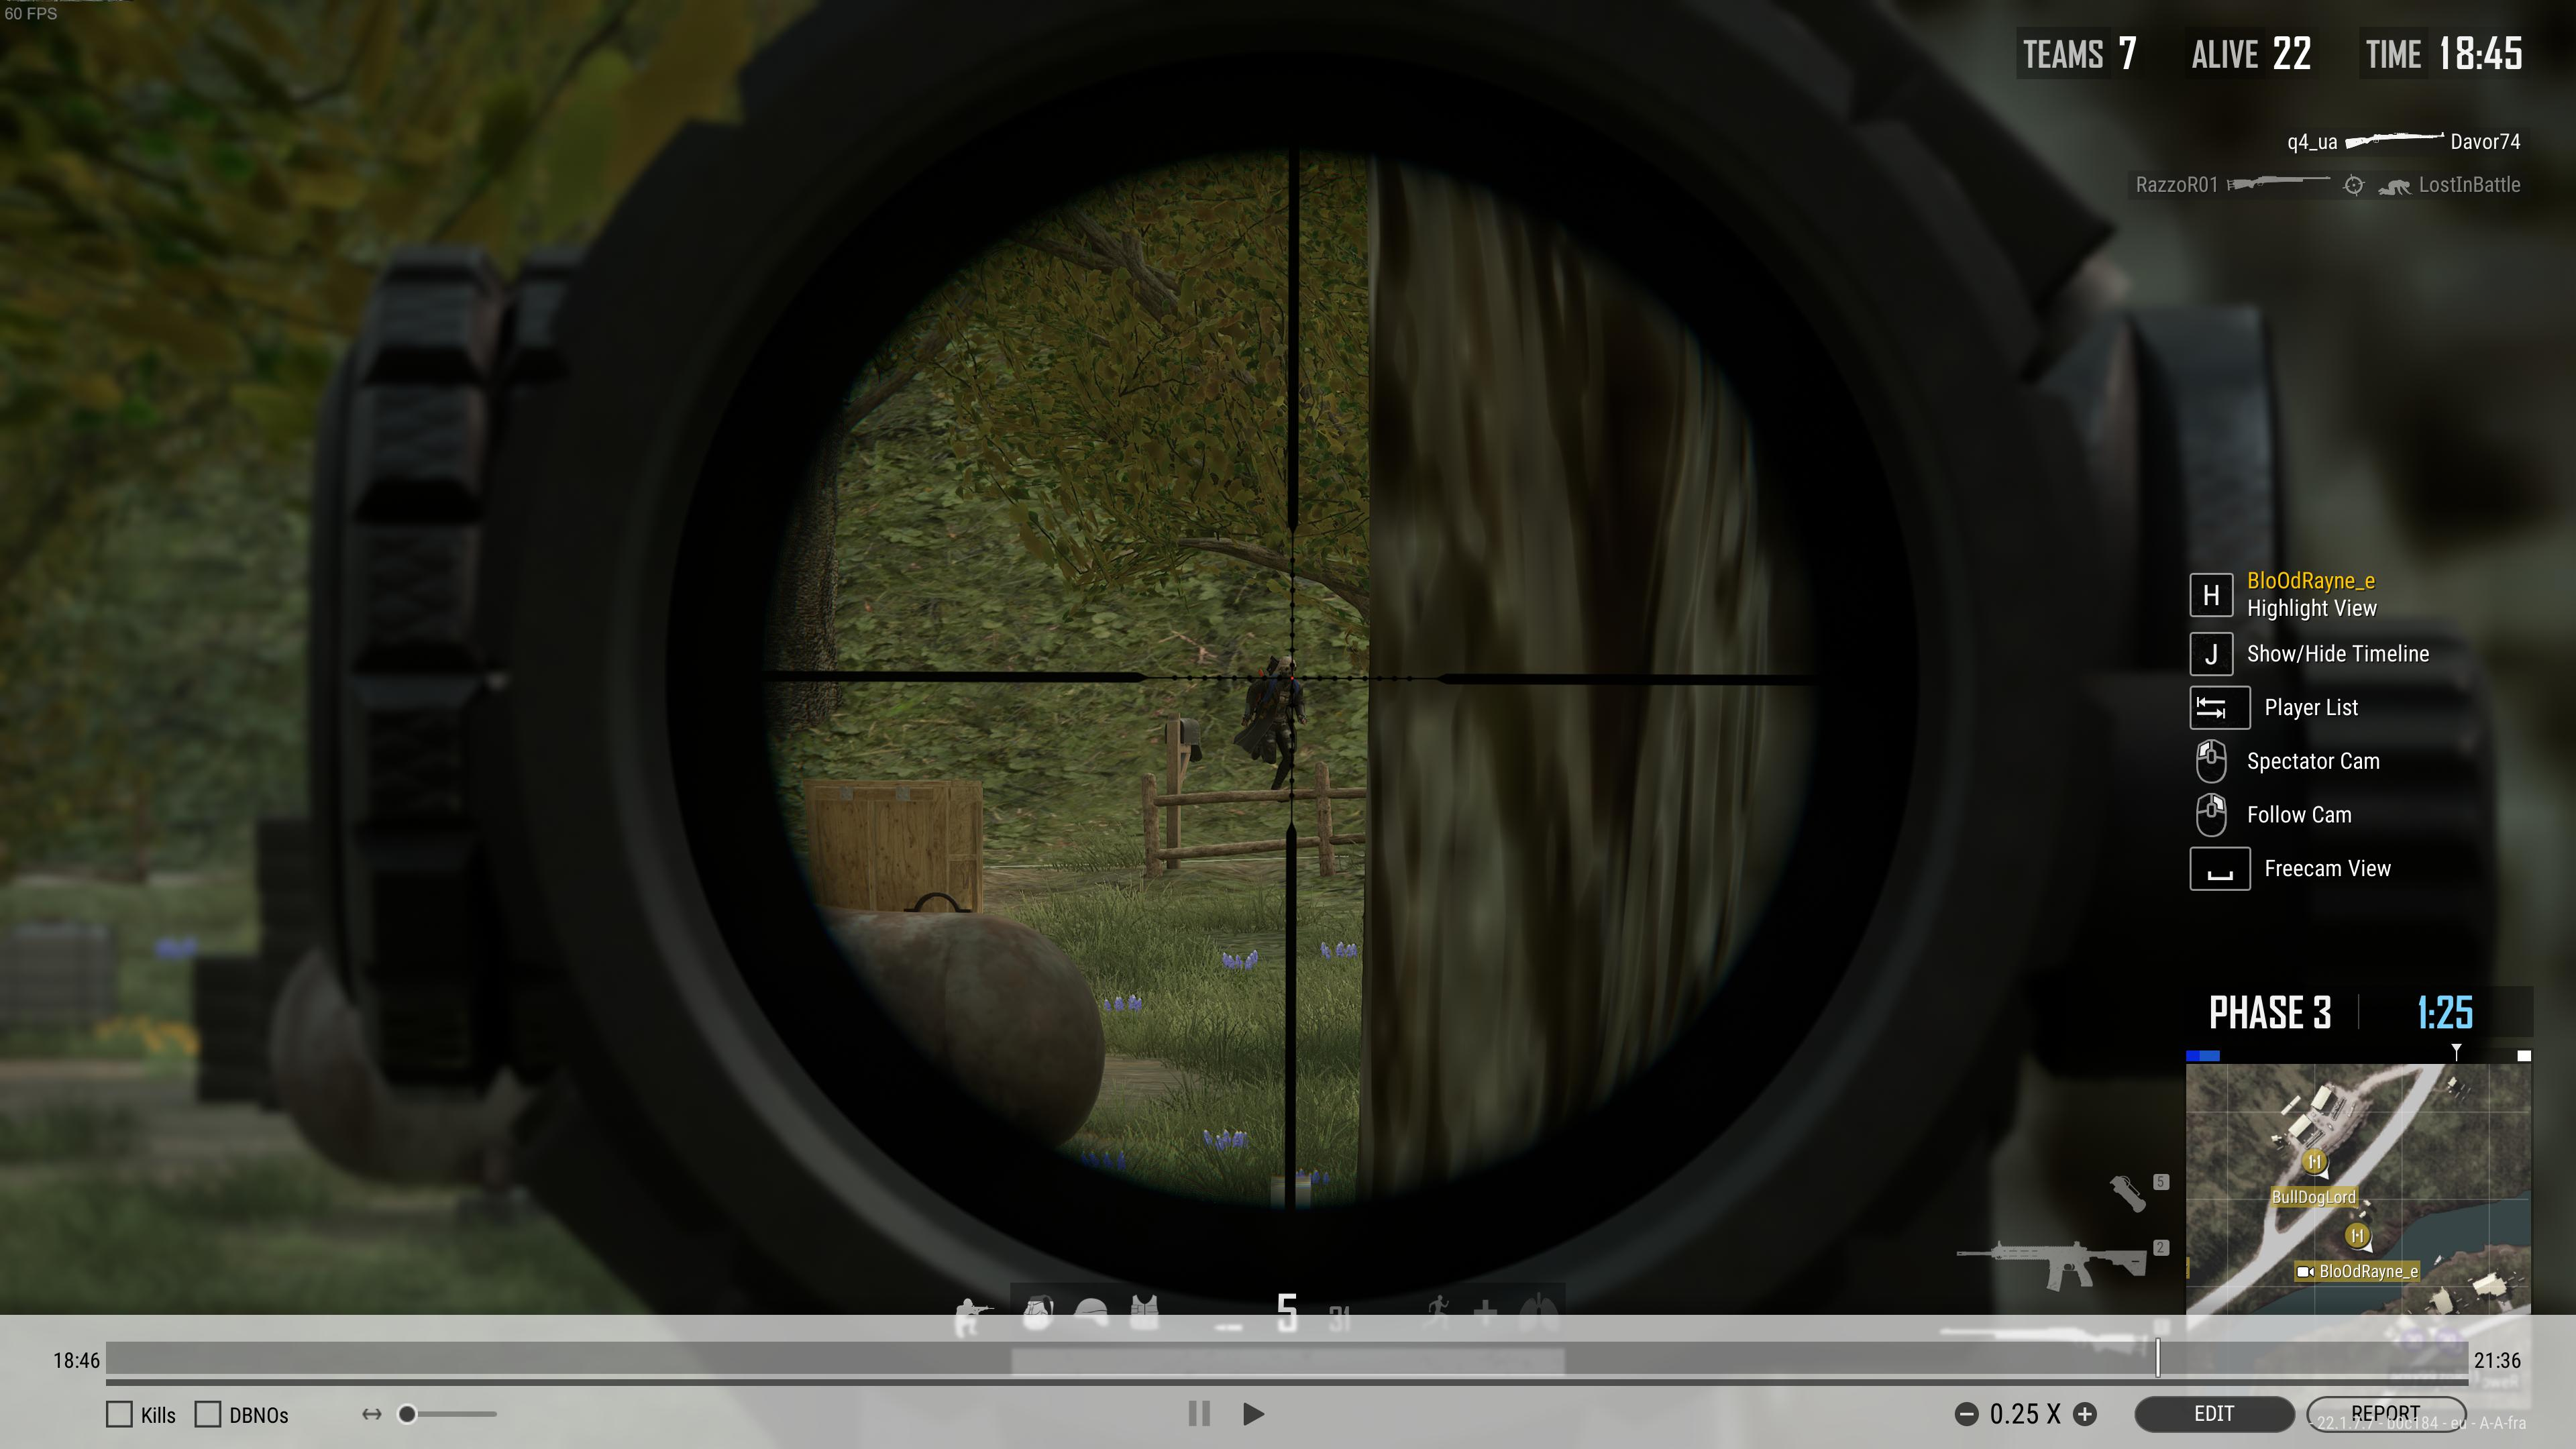enemy: (1235, 653, 1307, 789)
enemy_head: (1277, 655, 1297, 679)
